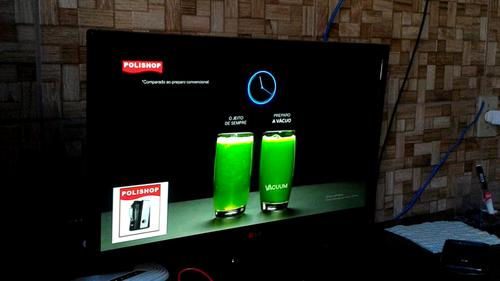Polishop #1: (111, 181, 169, 244)
